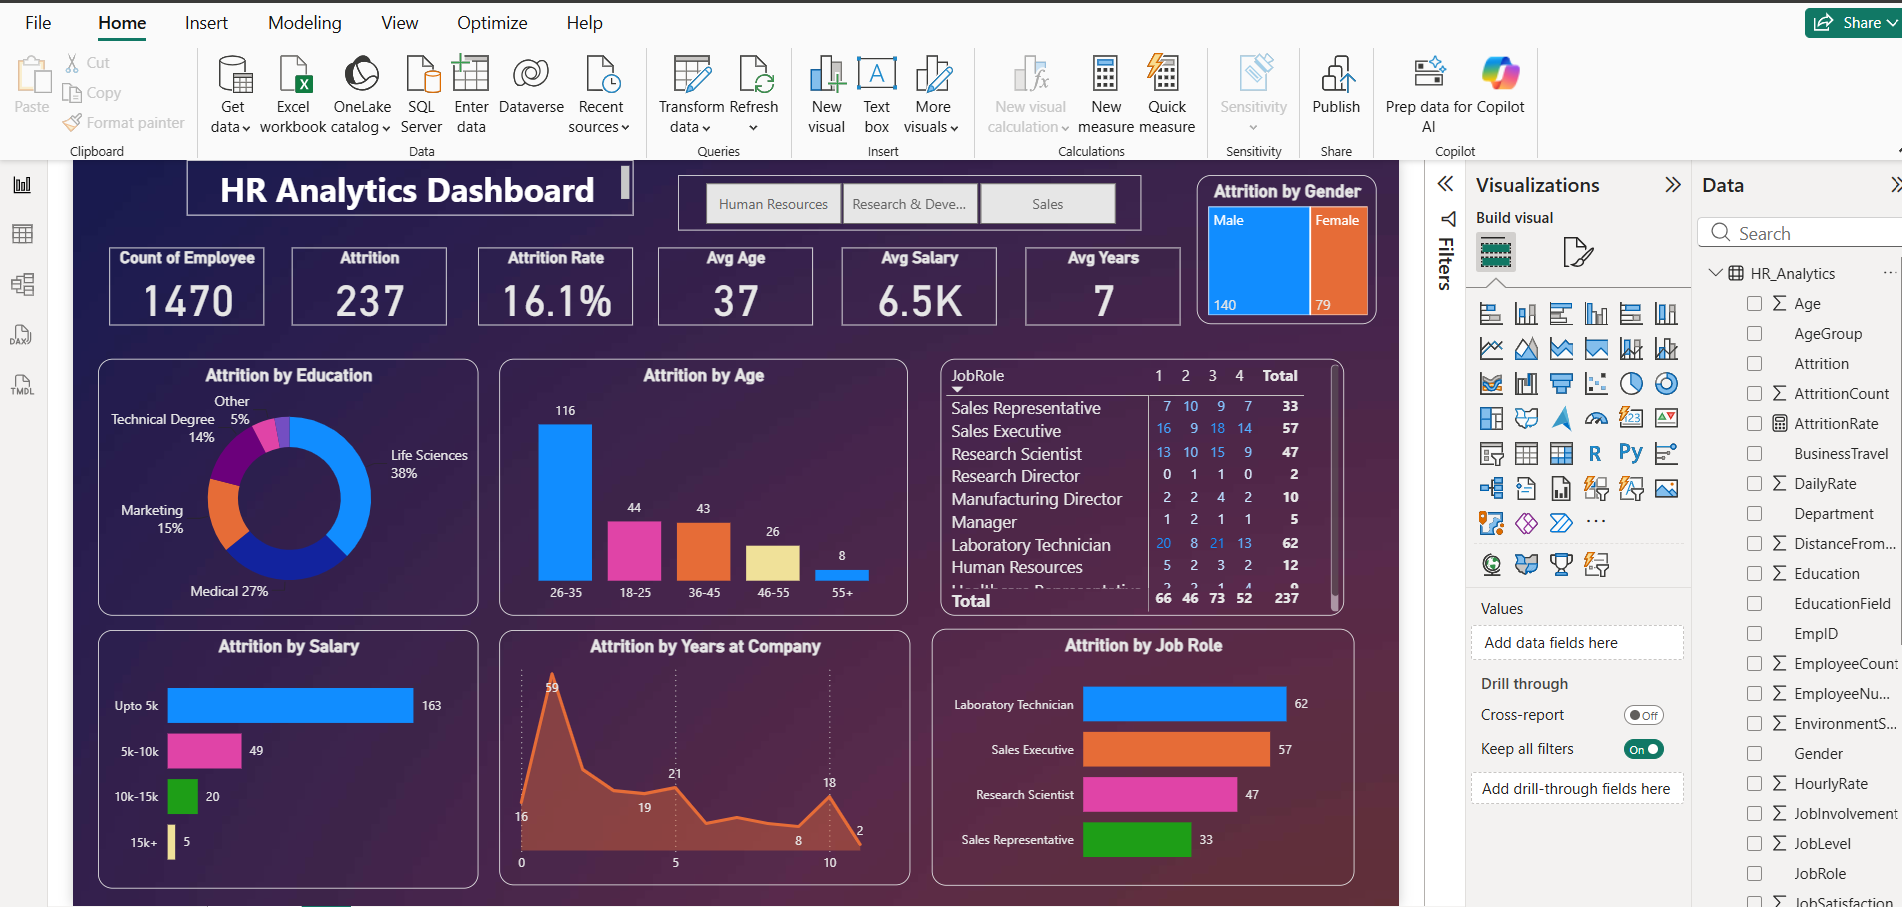

What the dashboard file says about the page in this screenshot:
{"tool":"powerbi","page":{"name":"Page 1","canvas":[1280,720],"ordinal":0},"visuals":[{"type":"card","title":"Count of Employee","fields":{"Values":["CountNonNull(HR_Analytics.EmpID)"]},"box":[35.3,84,149.5,75.6],"z":0},{"type":"card","title":"Attrition","fields":{"Values":["Sum(HR_Analytics.AttritionCount)"]},"box":[211.7,84,149.5,75.6],"z":1000},{"type":"card","title":"Attrition Rate","fields":{"Values":["HR_Analytics.AttritionRate"]},"box":[391.4,84,149.5,75.6],"z":2000},{"type":"card","title":"Avg Age","fields":{"Values":["Avg(HR_Analytics.Age)"]},"box":[564.4,84,149.5,75.6],"z":3000},{"type":"card","title":"Avg Salary","fields":{"Values":["Avg(HR_Analytics.MonthlyIncome)"]},"box":[742.5,84,149.5,75.6],"z":5000},{"type":"card","title":"Avg Years","fields":{"Values":["Avg(HR_Analytics.YearsAtCompany)"]},"box":[918.8,84,149.5,75.6],"z":6000},{"type":"donutChart","title":"Attrition by Education","fields":{"Y":["Sum(HR_Analytics.AttritionCount)"],"Category":["HR_Analytics.EducationField","HR_Analytics.YearsAtCompany"]},"box":[24.1,191.3,367.1,248],"z":7000},{"type":"columnChart","title":"Attrition by Age","fields":{"Category":["HR_Analytics.AgeGroup"],"Y":["Sum(HR_Analytics.AttritionCount)"]},"box":[411,191.3,394,248],"z":8000},{"type":"pivotTable","fields":{"Rows":["HR_Analytics.JobRole"],"Columns":["HR_Analytics.JobSatisfaction"],"Values":["Sum(HR_Analytics.AttritionCount)"]},"box":[837.6,191.3,389.8,248],"z":9000},{"type":"barChart","title":"Attrition by Salary","fields":{"Category":["HR_Analytics.SalarySlab"],"Y":["Sum(HR_Analytics.AttritionCount)"]},"box":[24.1,453.5,367.1,249.4],"z":10000},{"type":"barChart","title":"Attrition by Job Role","fields":{"Category":["HR_Analytics.JobRole"],"Y":["Sum(HR_Analytics.AttritionCount)"]},"box":[829.1,452.1,408.2,248],"z":11000},{"type":"areaChart","title":"Attrition by Years at Company","fields":{"Category":["HR_Analytics.YearsAtCompany"],"Y":["Sum(HR_Analytics.AttritionCount)"]},"box":[411,453.5,396.9,246.6],"z":12000},{"type":"treemap","title":"Attrition by Gender","fields":{"Group":["HR_Analytics.Gender"],"Values":["Sum(HR_Analytics.AttritionCount)"]},"box":[1085,14.1,174,144.3],"z":13000},{"type":"slicer","fields":{"Values":["HR_Analytics.Department"]},"box":[584.2,14.1,447,53.8],"z":14000},{"type":"textbox","box":[110.3,0,431.4,53.8],"z":15000}]}

Visuals, with their boxes on the page's 1280x720 design canvas (x1, y1, x2, y2). These are canvas units, not pixel positions in the 1902x907 screenshot, which may show the page scaled, cropped or inside an application window:
"Count of Employee" card: [x1=35, y1=84, x2=185, y2=160]
"Attrition" card: [x1=212, y1=84, x2=361, y2=160]
"Attrition Rate" card: [x1=391, y1=84, x2=541, y2=160]
"Avg Age" card: [x1=564, y1=84, x2=714, y2=160]
"Avg Salary" card: [x1=742, y1=84, x2=892, y2=160]
"Avg Years" card: [x1=919, y1=84, x2=1068, y2=160]
"Attrition by Education" donutChart: [x1=24, y1=191, x2=391, y2=439]
"Attrition by Age" columnChart: [x1=411, y1=191, x2=805, y2=439]
pivotTable - HR_Analytics.JobRole x HR_Analytics.JobSatisfaction: [x1=838, y1=191, x2=1227, y2=439]
"Attrition by Salary" barChart: [x1=24, y1=454, x2=391, y2=703]
"Attrition by Job Role" barChart: [x1=829, y1=452, x2=1237, y2=700]
"Attrition by Years at Company" areaChart: [x1=411, y1=454, x2=808, y2=700]
"Attrition by Gender" treemap: [x1=1085, y1=14, x2=1259, y2=158]
slicer - HR_Analytics.Department: [x1=584, y1=14, x2=1031, y2=68]
textbox: [x1=110, y1=0, x2=542, y2=54]
